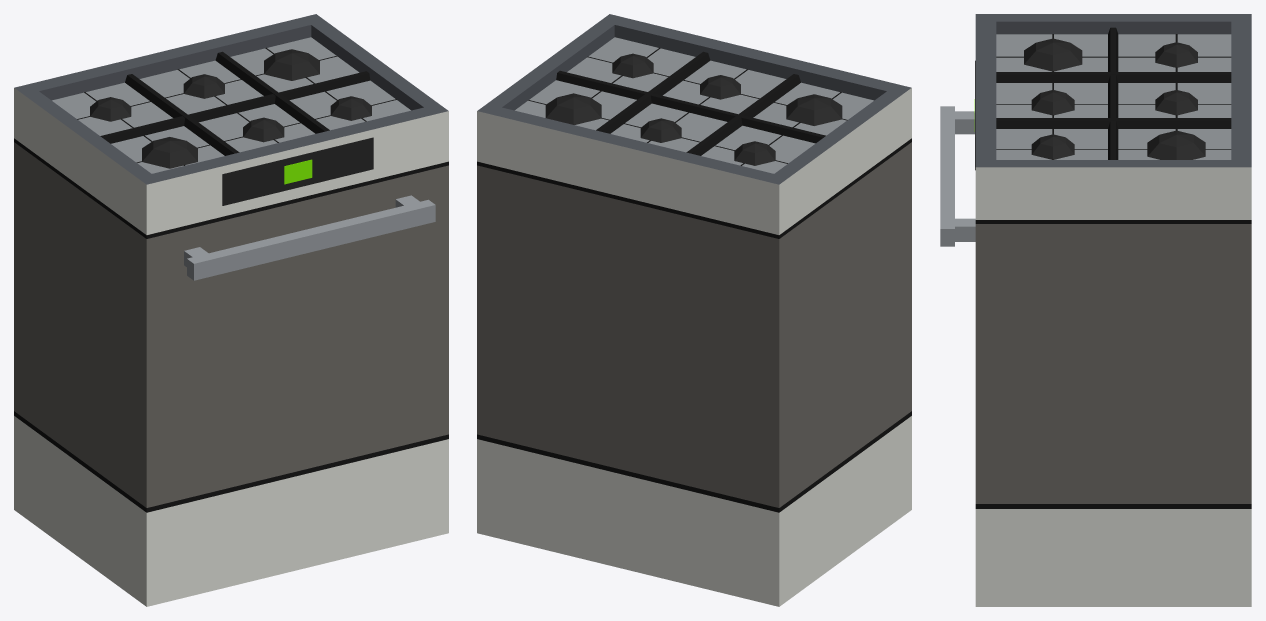
Rendered from Kitchen_Cooking.fbx.
3 views of the same model, side by side, from view 1: azimuth 30°, elevation 25°; view 2: azimuth 150°, elevation 25°; view 3: azimuth 270°, elevation 25° (orthographic). The views are drawn at different scales.
Parts seen in each view (by area): view 1: polySurface1851; view 2: polySurface1851; view 3: polySurface1851.
Boxes of the visible parts, box(x1,y1,x2,y2) form: polySurface1851: box(14, 14, 448, 606); polySurface1851: box(477, 14, 911, 606); polySurface1851: box(940, 14, 1251, 606).
Bounding box in the file's own units: 1 × 1.34 × 0.8578.
Materials: 1 (1 with a texture image).
